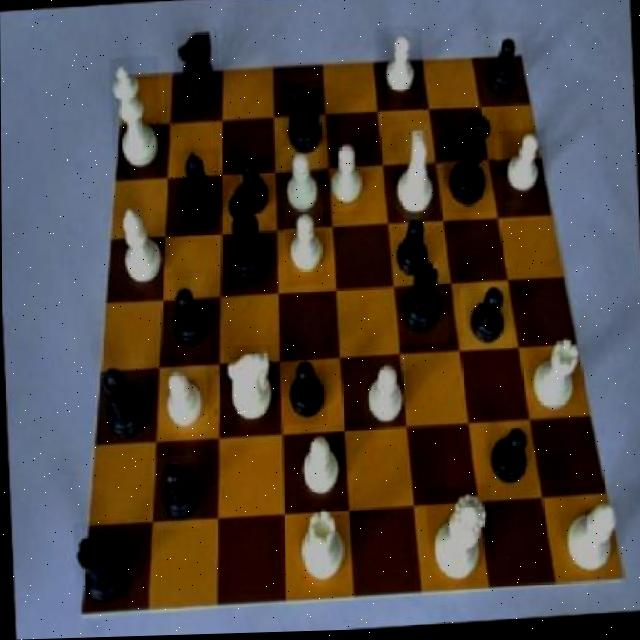bishop: (97, 360, 150, 447), (175, 147, 221, 235)
black-bishop: (218, 177, 272, 292)
black-king: (173, 29, 220, 117), (280, 74, 327, 161)
black-knight: (480, 426, 534, 496), (460, 285, 513, 355), (152, 455, 199, 532), (166, 278, 210, 355), (230, 155, 277, 225), (480, 36, 523, 112), (281, 359, 327, 427), (389, 216, 429, 284)
black-pawn: (439, 113, 496, 218)
black-queen: (73, 519, 129, 613), (394, 265, 450, 349)
black-rook: (561, 496, 631, 582), (112, 204, 166, 299)
white-bishop: (108, 56, 162, 178)
white-king: (385, 125, 439, 223), (219, 345, 275, 436)
white-knight: (323, 134, 368, 219), (375, 29, 423, 106), (279, 145, 322, 228), (500, 132, 548, 206), (158, 366, 208, 436), (361, 358, 407, 430), (295, 432, 342, 502), (284, 214, 328, 288)
white-pawn: (426, 487, 494, 591)
white-queen: (525, 336, 585, 415), (297, 500, 345, 583)
